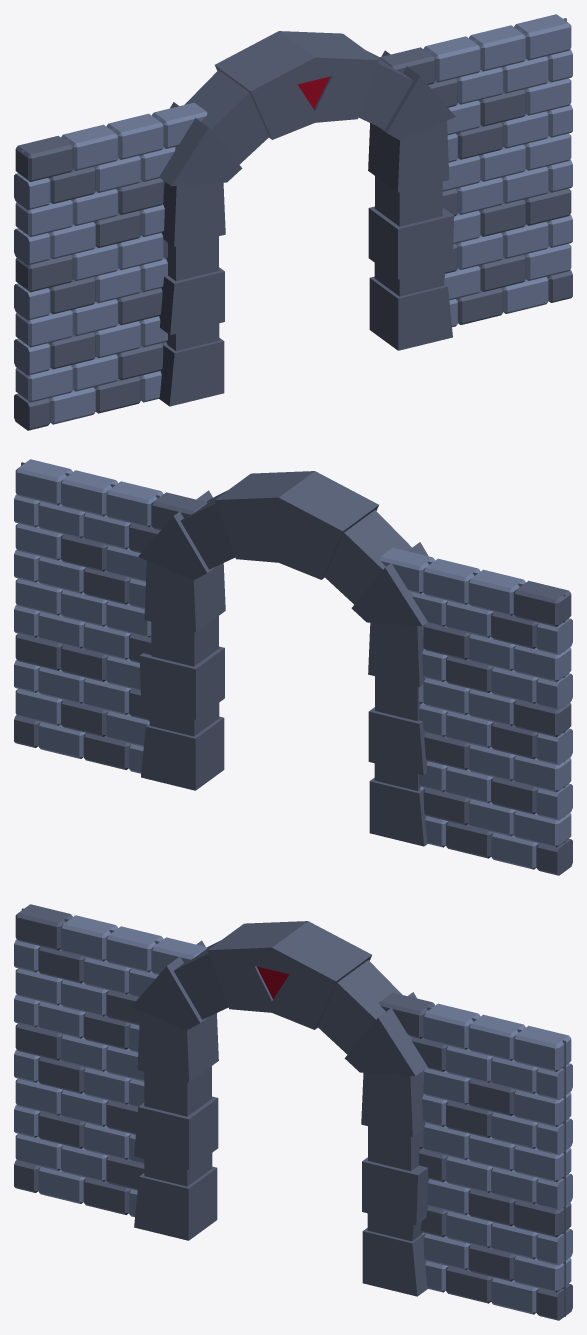
Rendered from door.glb.
3 renders of one model, top to bottom at view 1: azimuth 30°, elevation 25°; view 2: azimuth 150°, elevation 25°; view 3: azimuth 330°, elevation 25°, orthographic.
Visible parts, largest first — view 1: brick wall without door; view 2: brick wall without door; view 3: brick wall without door.
Boxes of the visible parts, x1,y1,x2,y2 form: brick wall without door: (14, 14, 572, 430); brick wall without door: (14, 459, 572, 875); brick wall without door: (14, 904, 572, 1320).
Bounding box in the file's own units: 6.33 × 3.54 × 0.7309.
